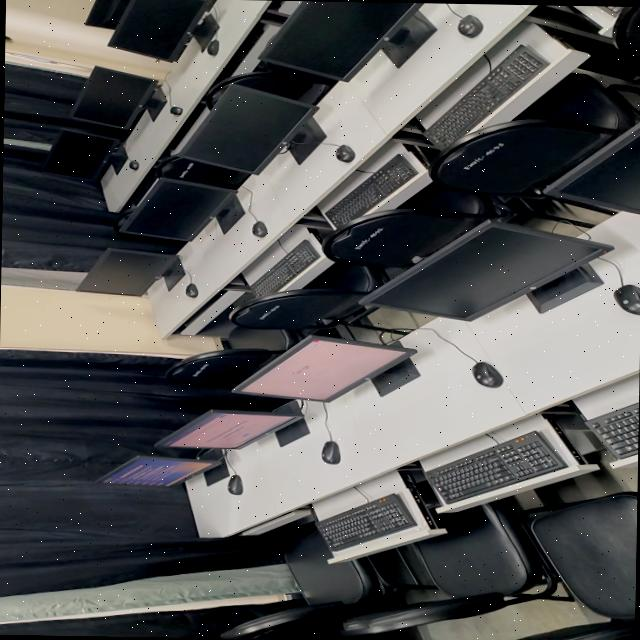Chair: (343, 501, 573, 633), (220, 530, 416, 639), (510, 490, 637, 640), (429, 119, 614, 194), (230, 262, 385, 329), (322, 207, 492, 267), (166, 325, 302, 387), (227, 72, 331, 102), (157, 155, 248, 188), (612, 5, 640, 61), (205, 82, 229, 108)
Keyboard: (425, 44, 548, 147), (425, 430, 567, 502), (325, 153, 417, 226), (317, 494, 417, 549), (249, 239, 319, 296), (585, 401, 639, 458), (603, 5, 624, 12)
Monitor: (361, 218, 612, 320), (180, 82, 326, 174), (261, 0, 424, 80), (232, 334, 417, 400), (544, 119, 640, 213), (117, 177, 235, 240), (108, 0, 218, 60), (158, 401, 301, 447), (71, 65, 157, 128), (76, 247, 184, 295), (41, 129, 118, 181), (96, 454, 219, 485), (85, 0, 129, 28)
Mouse: (613, 283, 640, 314), (471, 361, 502, 387), (457, 14, 482, 37), (321, 440, 340, 463), (335, 143, 355, 162), (227, 474, 242, 494), (252, 220, 267, 236), (205, 38, 218, 54), (184, 282, 198, 296), (169, 105, 182, 114), (128, 158, 138, 169)
